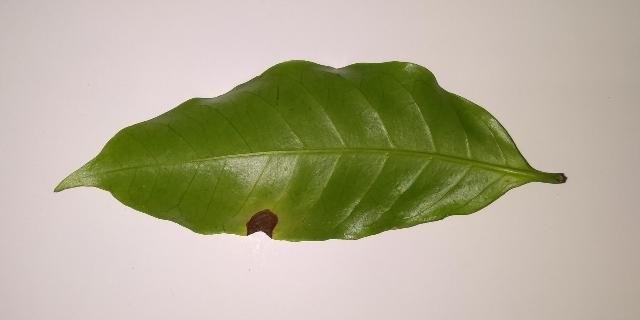rust: (246, 209, 278, 237)
